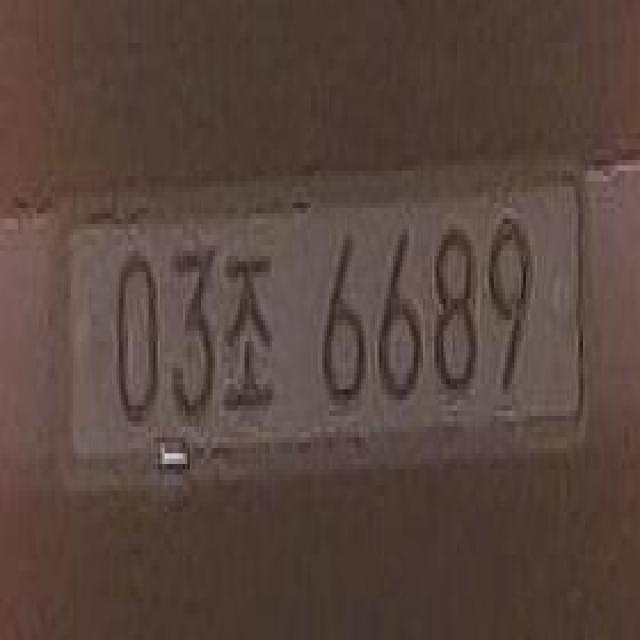illegal_plate: (61, 180, 577, 487)
